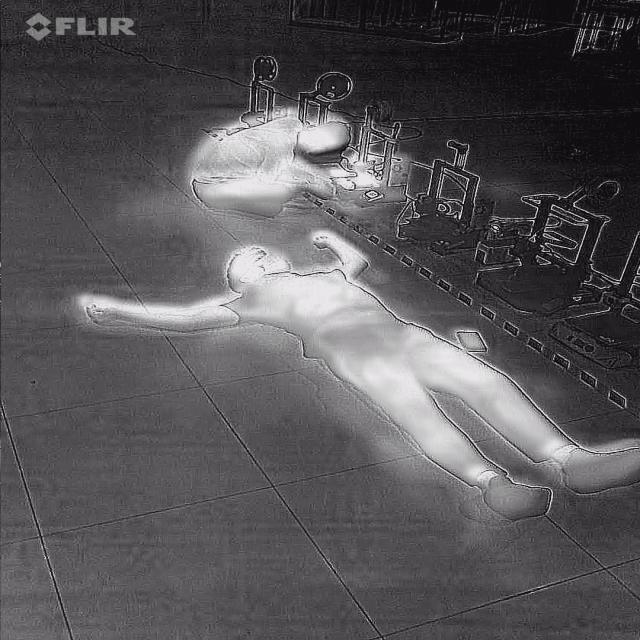Victim: (71, 228, 636, 524), (184, 107, 352, 223)
